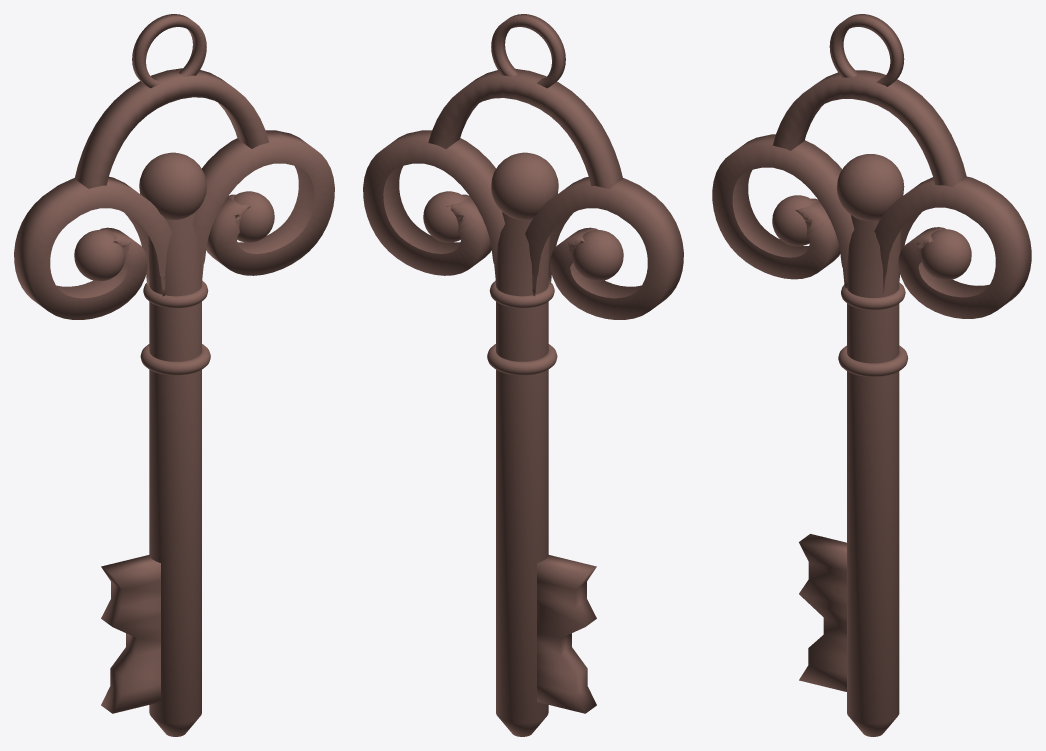
Rendered from Clau.fbx.
The picture shows the model from 3 angles, left to right: view 1: azimuth 30°, elevation 25°; view 2: azimuth 150°, elevation 25°; view 3: azimuth 330°, elevation 25°; orthographic projection.
Visible parts, largest first — view 1: Torus; view 2: Torus; view 3: Torus.
Part boxes in pixels (x1=…): Torus: x1=14, y1=14, x2=334, y2=736; Torus: x1=363, y1=14, x2=683, y2=736; Torus: x1=712, y1=14, x2=1031, y2=736.
Size of the model in its own units: 89.77 by 202 by 17.91.
